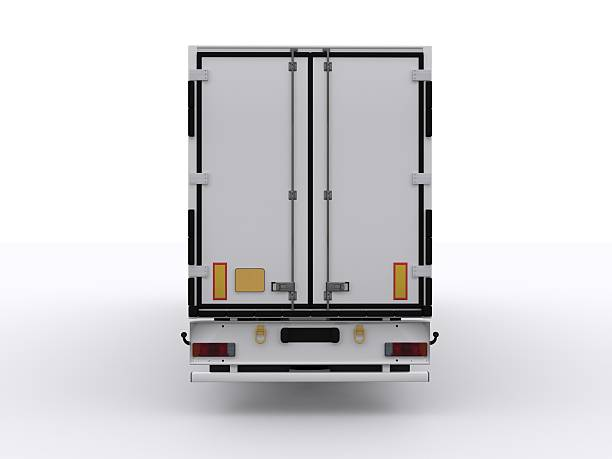Semi: (180, 44, 438, 383)
